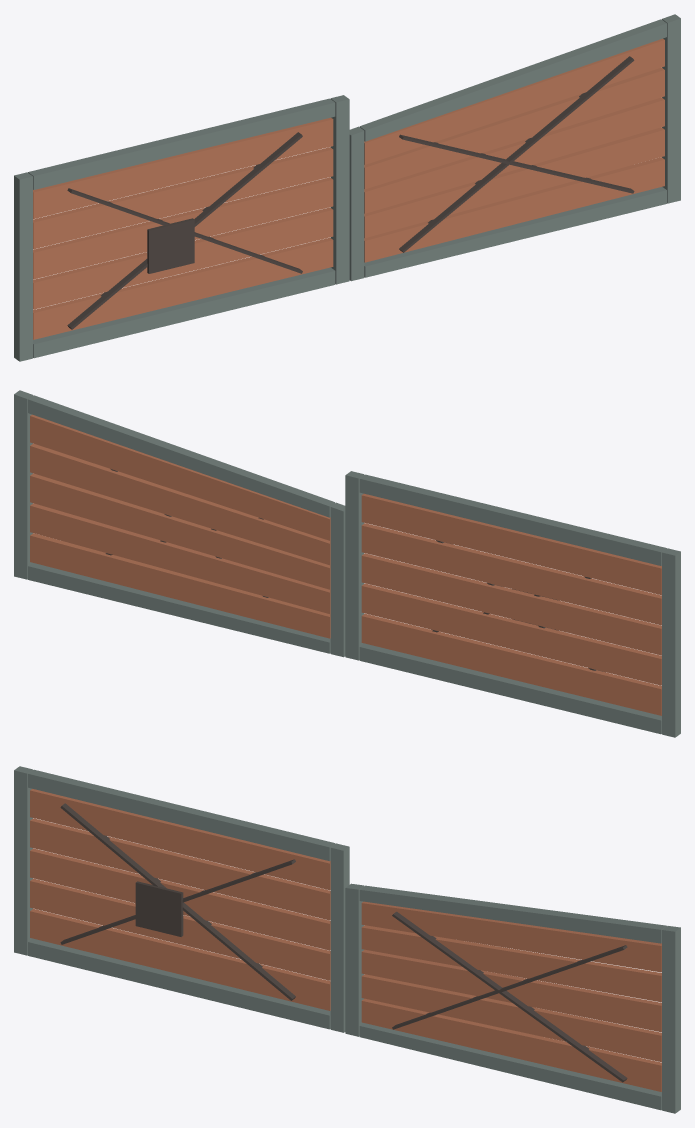
File: SM_PuertaVehiculos_v2_Tablones_e1_Danado_LOD1.fbx
3 renders of one model, top to bottom at view 1: azimuth 30°, elevation 25°; view 2: azimuth 150°, elevation 25°; view 3: azimuth 330°, elevation 25°, orthographic.
Visible parts, largest first — view 1: Hoja_O, Hoja_E; view 2: Hoja_O, Hoja_E; view 3: Hoja_O, Hoja_E.
Boxes of the visible parts, left/top/right/bottom form: Hoja_O: left=14, top=95, right=349, bottom=361; Hoja_E: left=349, top=14, right=680, bottom=281; Hoja_O: left=345, top=471, right=680, bottom=737; Hoja_E: left=14, top=390, right=345, bottom=657; Hoja_O: left=14, top=766, right=349, bottom=1032; Hoja_E: left=345, top=883, right=680, bottom=1113.
Size of what is drawn, in the model's own units: 7.98 by 2.1 by 0.2.
